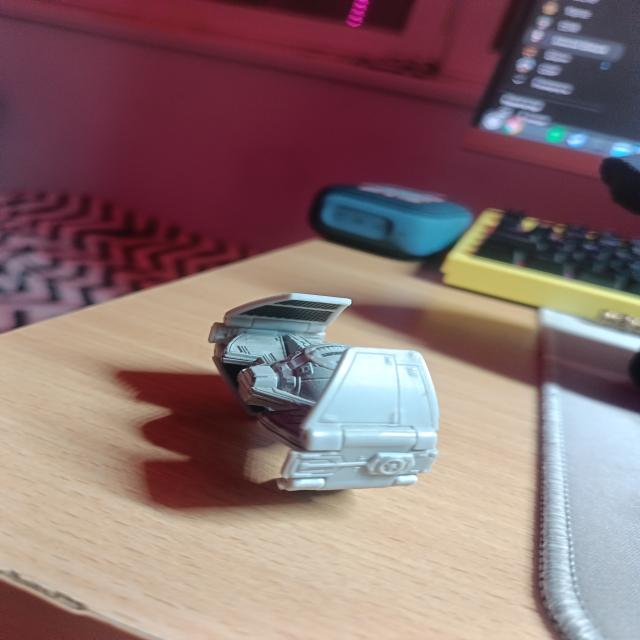tie fighter: (208, 293, 439, 490)
